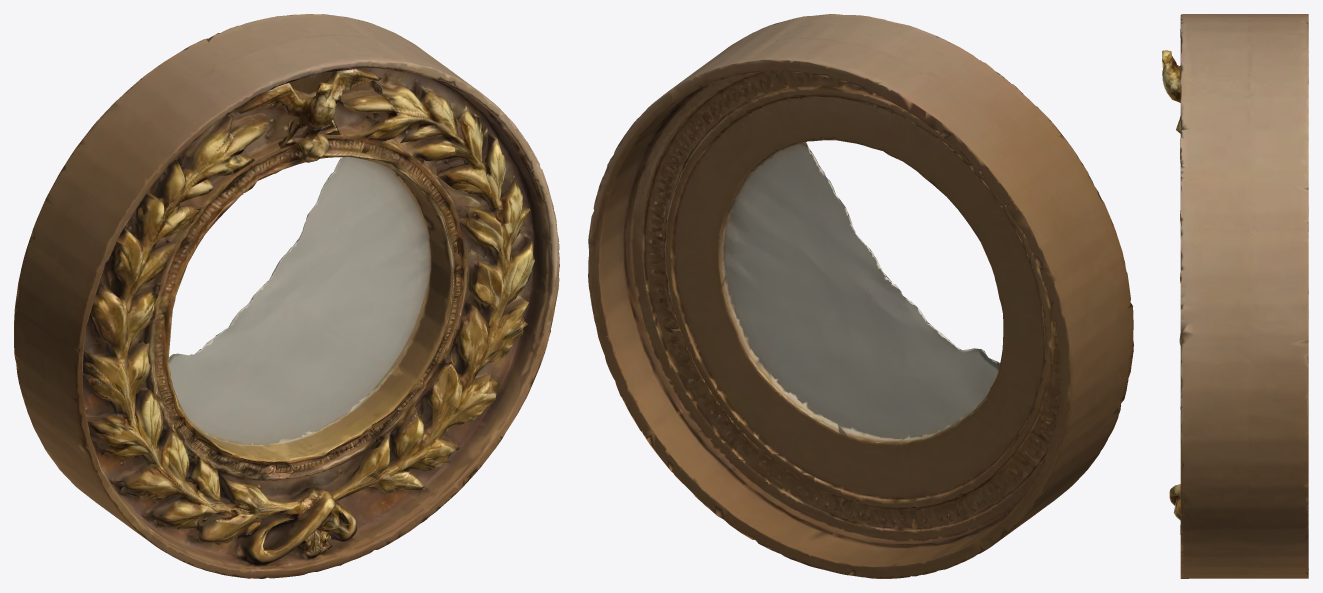
Rendered from hero-frame.glb.
The picture shows the model from 3 angles, left to right: view 1: azimuth 30°, elevation 25°; view 2: azimuth 150°, elevation 25°; view 3: azimuth 270°, elevation 25°; orthographic projection.
Visible parts, largest first — view 1: tripo_node_f22bb1f2-722c-4033-869e-e643eedeb9aa; view 2: tripo_node_f22bb1f2-722c-4033-869e-e643eedeb9aa; view 3: tripo_node_f22bb1f2-722c-4033-869e-e643eedeb9aa.
Boxes of the visible parts, box(x1,y1,x2,y2) form: tripo_node_f22bb1f2-722c-4033-869e-e643eedeb9aa: box(14, 14, 559, 578); tripo_node_f22bb1f2-722c-4033-869e-e643eedeb9aa: box(588, 14, 1133, 578); tripo_node_f22bb1f2-722c-4033-869e-e643eedeb9aa: box(1162, 14, 1308, 578).
Size of the model in its own units: 0.9999 by 0.9999 by 0.2597.
1 material, 1 textured.
